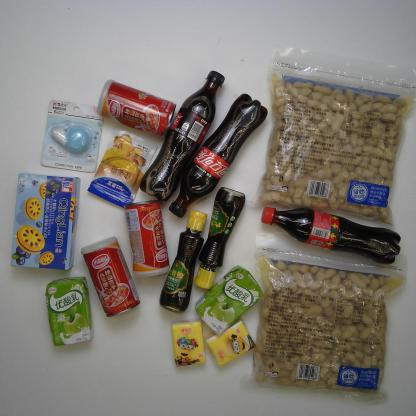Canned Food: (89, 77, 179, 139), (76, 236, 141, 320), (117, 200, 177, 283)
Dessert: (5, 170, 87, 278)
Dried Food: (259, 58, 413, 230), (254, 247, 408, 404)
Drink: (165, 94, 271, 219), (138, 68, 226, 201), (253, 200, 410, 270)
Milk: (193, 265, 266, 328), (40, 275, 99, 351)
Seasoner: (84, 125, 158, 210), (158, 210, 214, 312), (199, 188, 252, 292)
Stationery: (32, 96, 106, 174)
Tissue: (163, 319, 212, 373), (206, 321, 252, 368)
